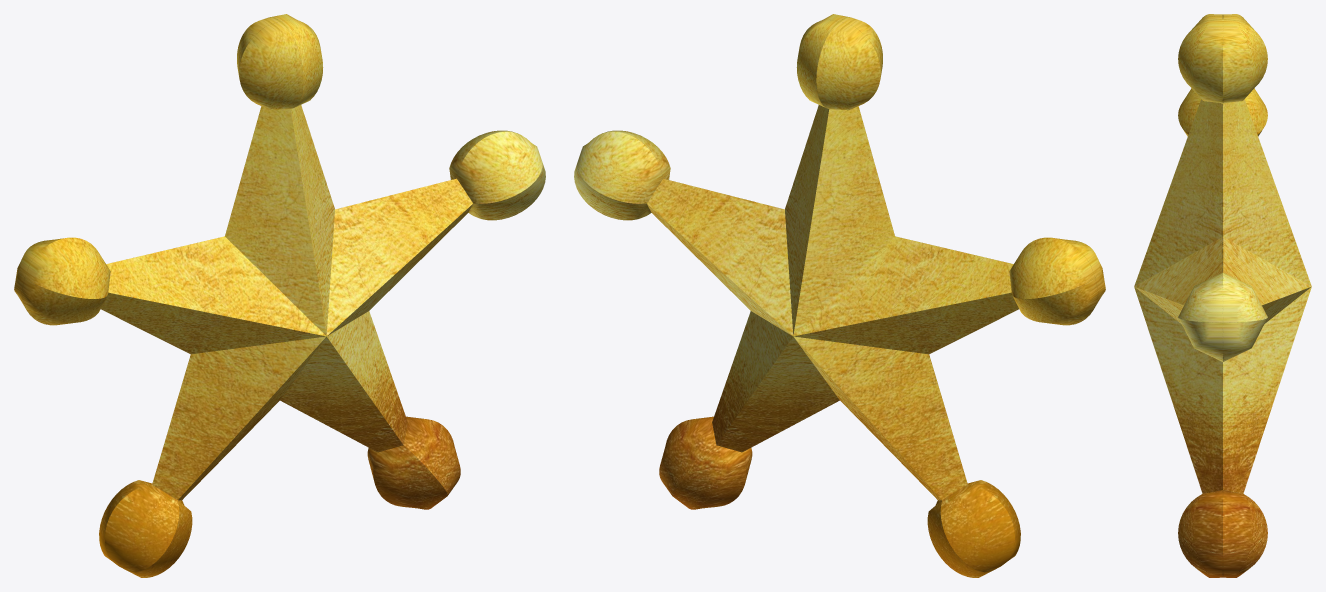
The model's file is stellaSceriffo.fbx.
3 views of the same model, side by side, from view 1: azimuth 30°, elevation 25°; view 2: azimuth 150°, elevation 25°; view 3: azimuth 270°, elevation 25° (orthographic). The views are drawn at different scales.
Parts seen in each view (by area): view 1: Stella; view 2: Stella; view 3: Stella.
Part boxes in pixels (x1,y1,x2,y2): Stella: (14, 14, 545, 577); Stella: (574, 14, 1105, 577); Stella: (1134, 14, 1311, 577).
Bounding box in the file's own units: 1.28 × 1.22 × 0.4002.
Materials: 1 (1 with a texture image).
